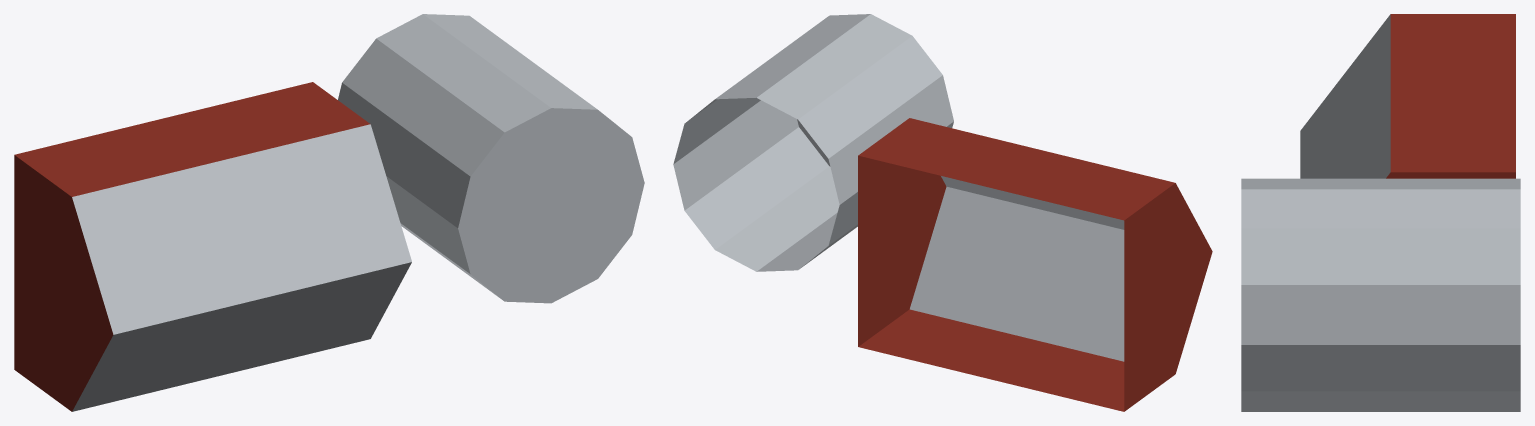
File: island_bldg_10_07.obj
The picture shows the model from 3 angles, left to right: view 1: azimuth 30°, elevation 25°; view 2: azimuth 150°, elevation 25°; view 3: azimuth 270°, elevation 25°; orthographic projection. The views are drawn at different scales.
Visible parts, largest first — view 1: island_bldg_10_07; view 2: island_bldg_10_07; view 3: island_bldg_10_07.
Part boxes in pixels (bbox=[...]): island_bldg_10_07: bbox=[14, 14, 644, 411]; island_bldg_10_07: bbox=[673, 14, 1212, 411]; island_bldg_10_07: bbox=[1241, 14, 1520, 411].
Bounding box in the file's own units: 54 × 26 × 23.85.
